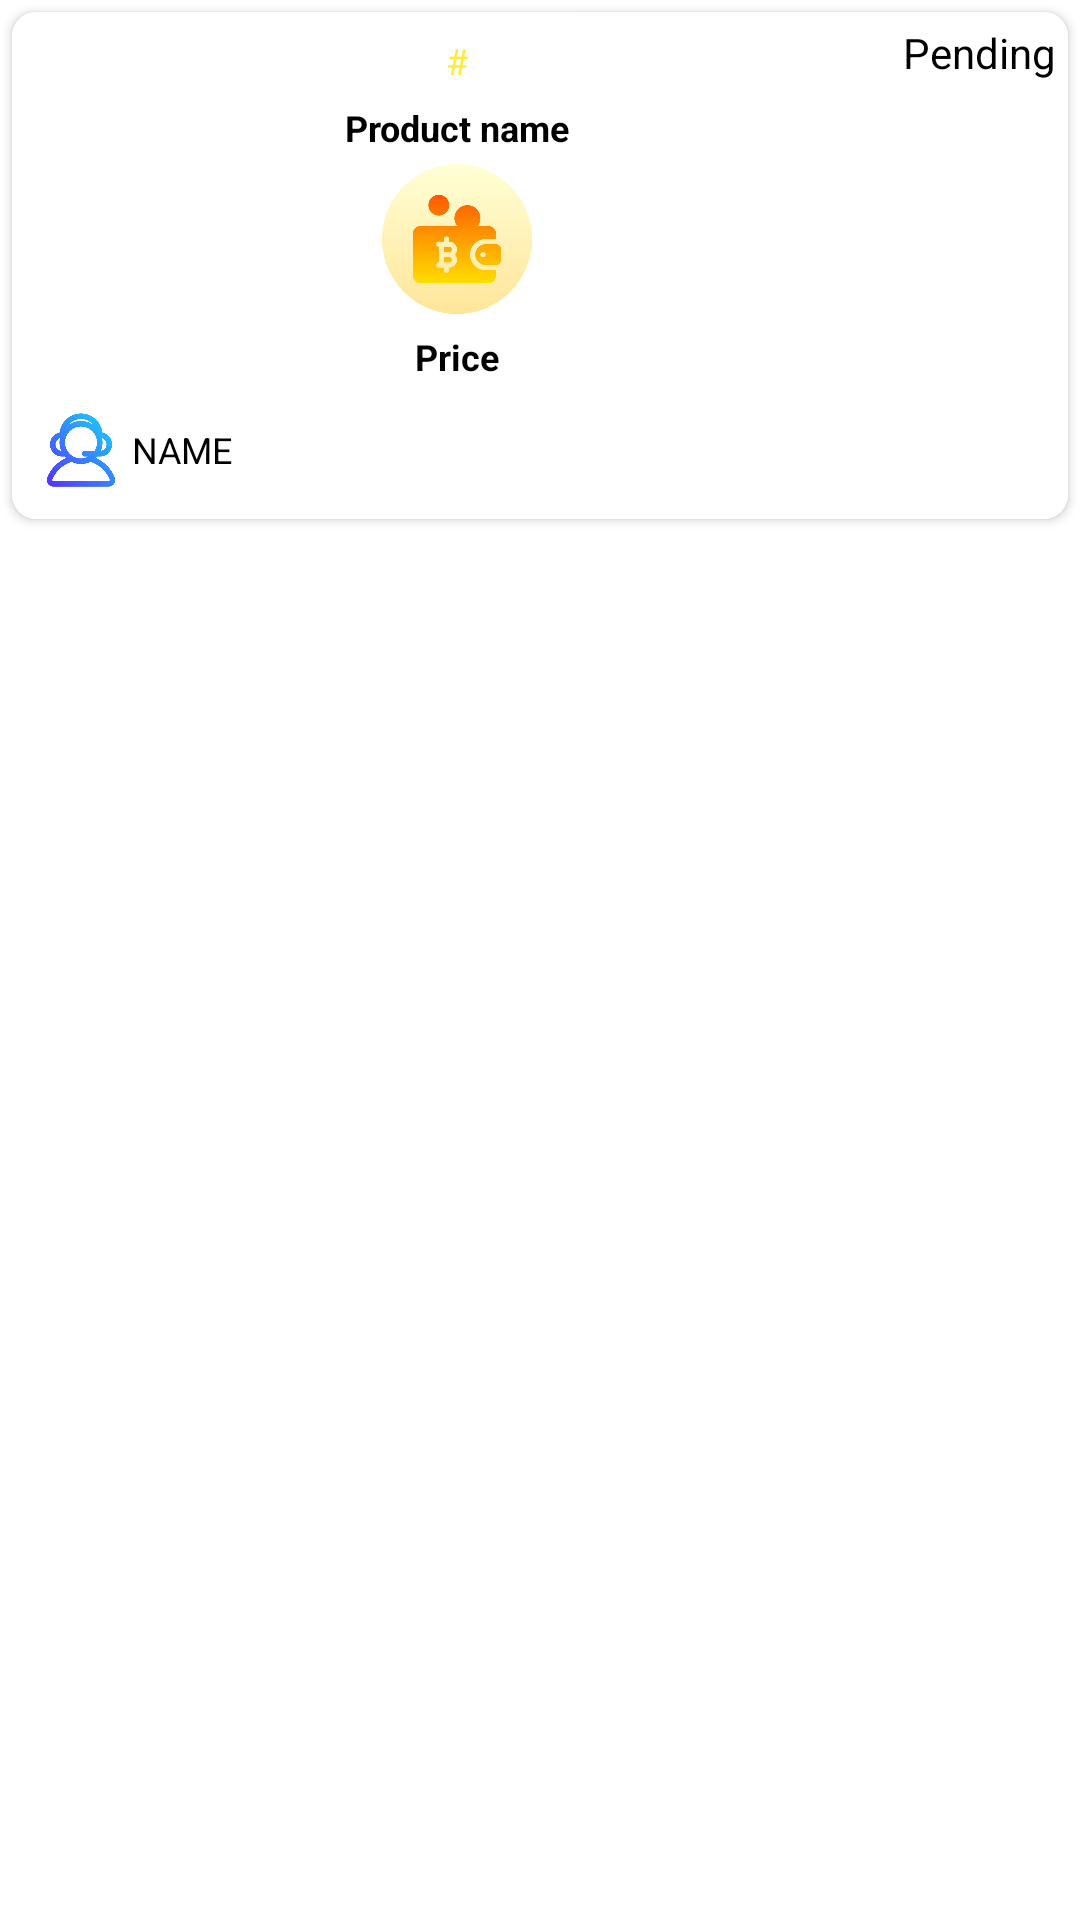

Named icons in this screenshot (1080px×1920px) and their bounding boxes, (x1, y1, x2, y2):
customer service: (47, 413, 115, 487)
wallet: (382, 164, 532, 314)
